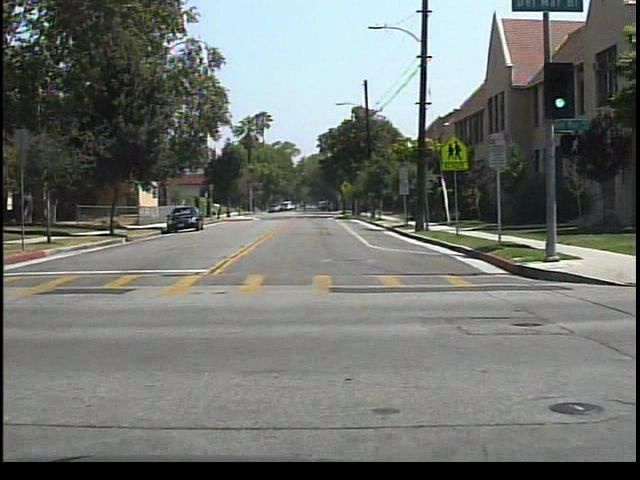person: (298, 197, 313, 214)
